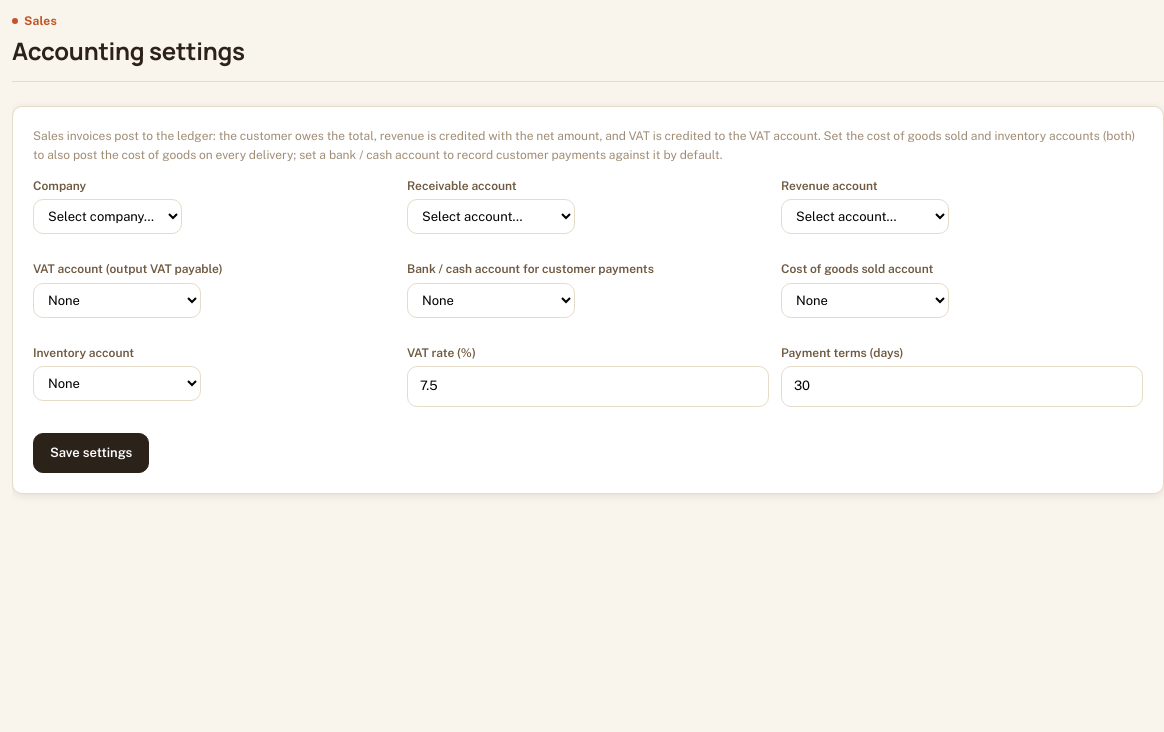
Test case: SalesSettingsPage › saves the accounts and VAT rate
Select "Acme Foods" in the dropdown labelled "Company" at coordinates (108, 217), box [33,199,182,234]
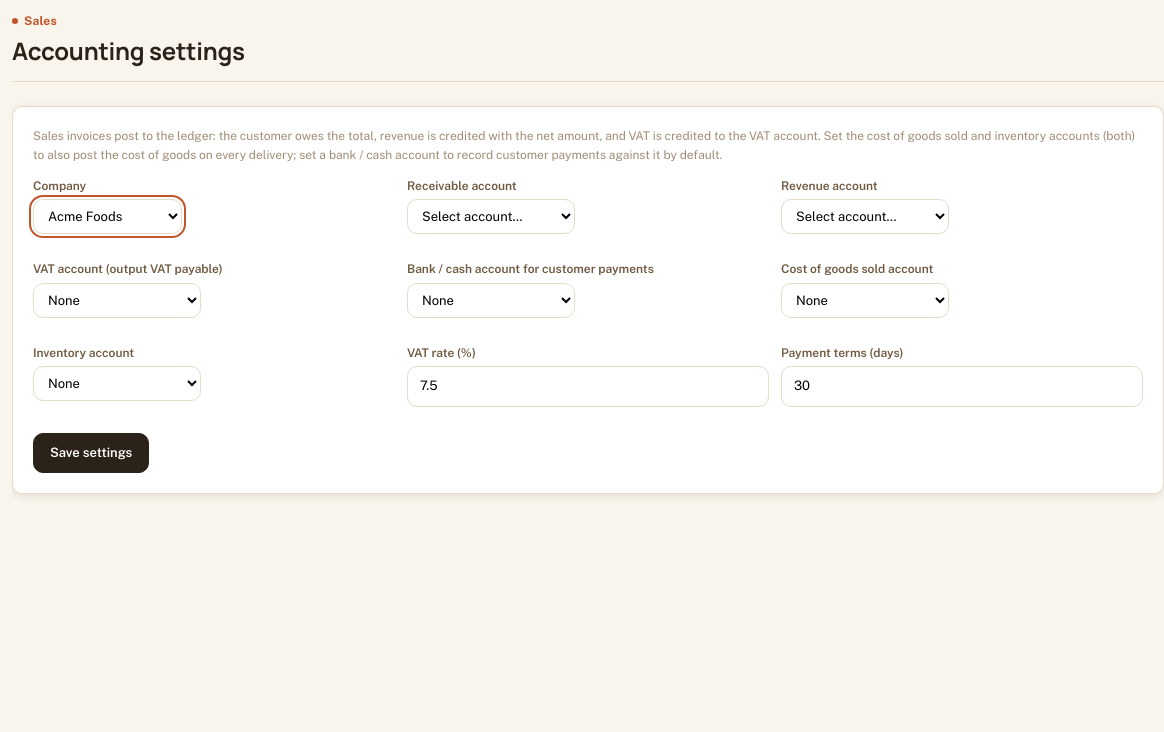
Select "1200 — Receivables" in the dropdown labelled "Receivable account" at coordinates (491, 217), box [407,199,575,234]
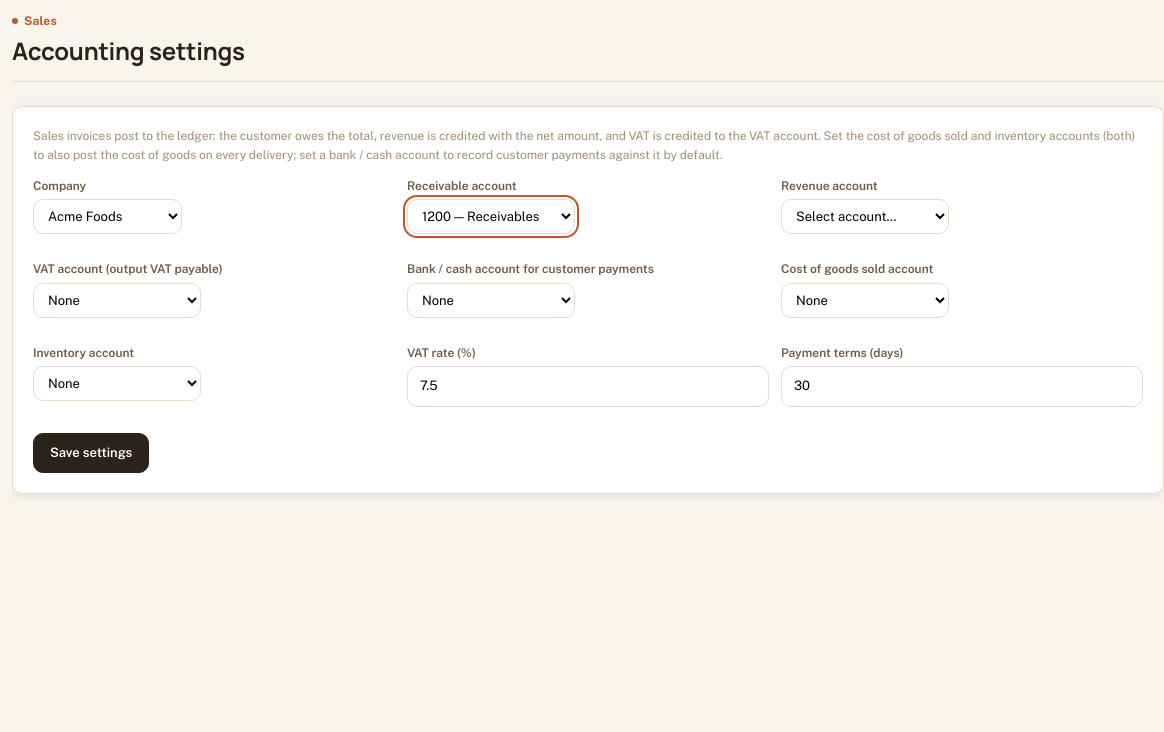
Select "4000 — Sales" in the dropdown labelled "Revenue account" at coordinates (865, 217), box [781,199,949,234]
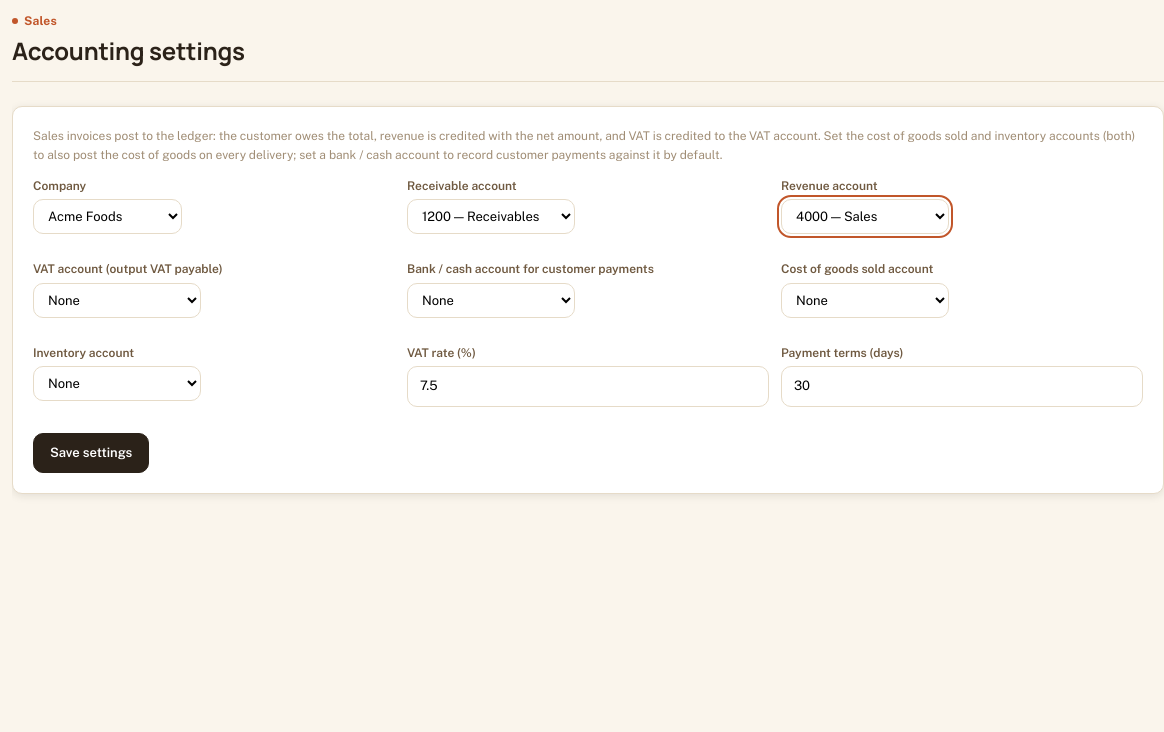
Select "2200 — VAT payable" in the dropdown labelled "VAT account (output VAT payable)" at coordinates (117, 300), box [33,283,201,318]
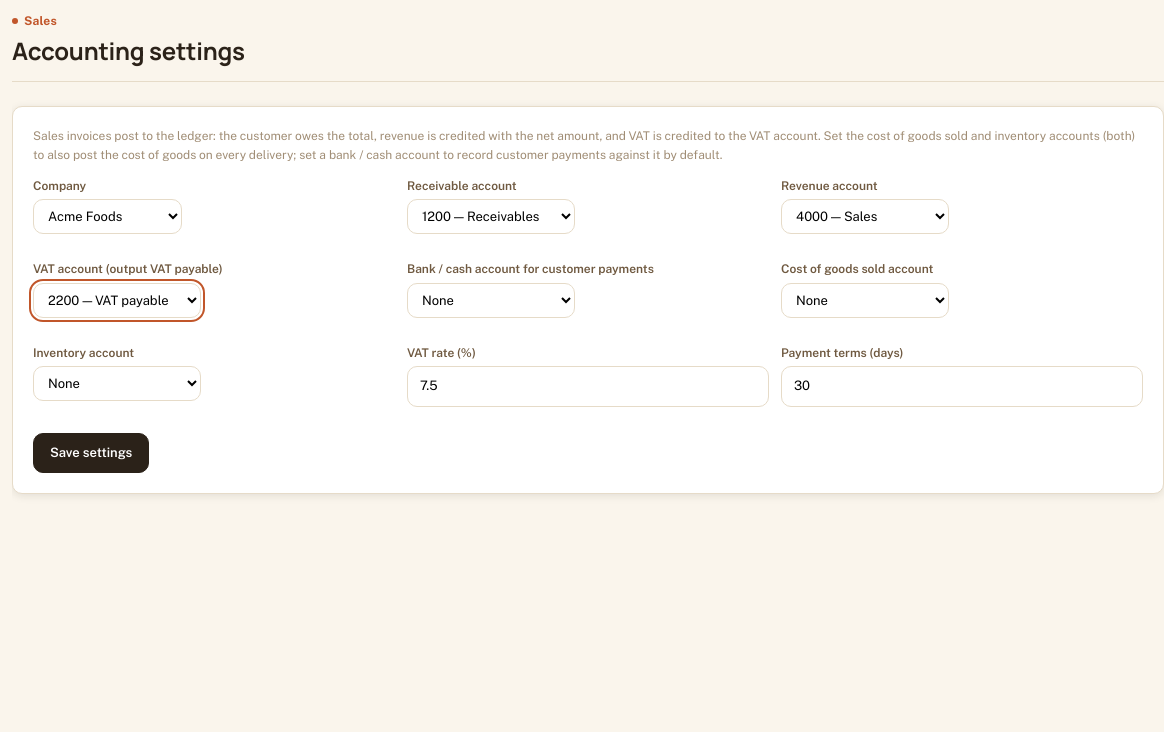
Click the button "Save settings".
click(91, 453)  # box [33,432,149,473]
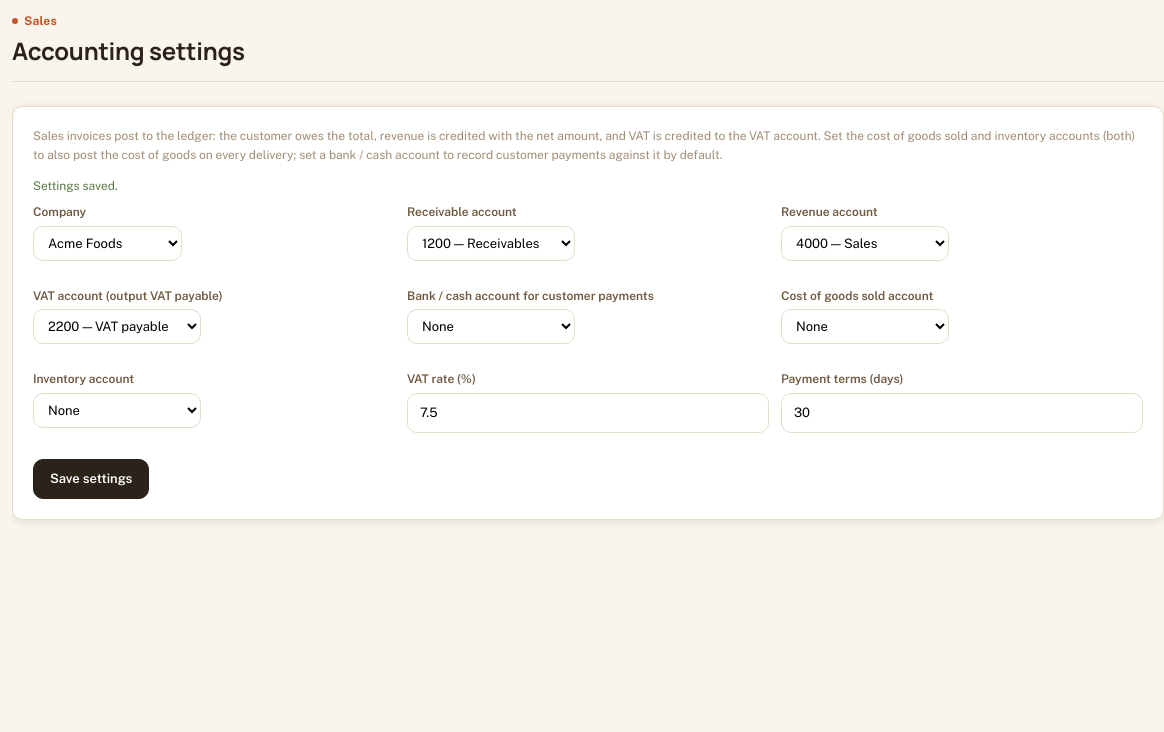
Expected: the message shows "Settings saved", [33,179,118,193]
